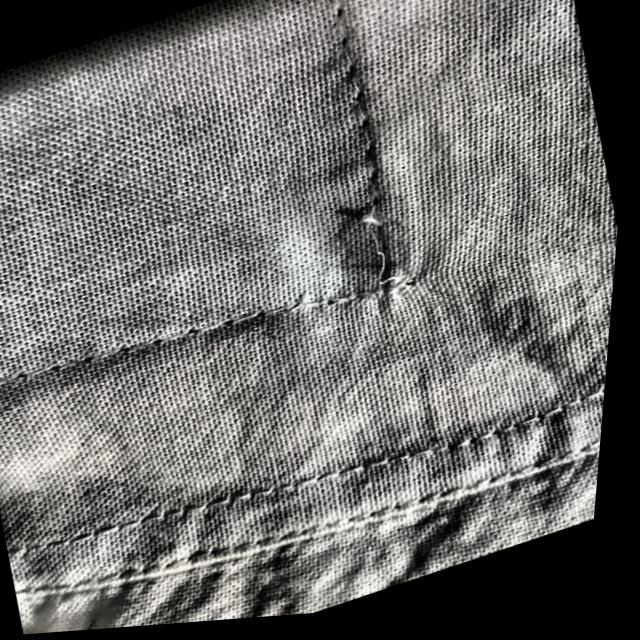Stitch: (286, 0, 429, 195), (301, 179, 460, 351)
